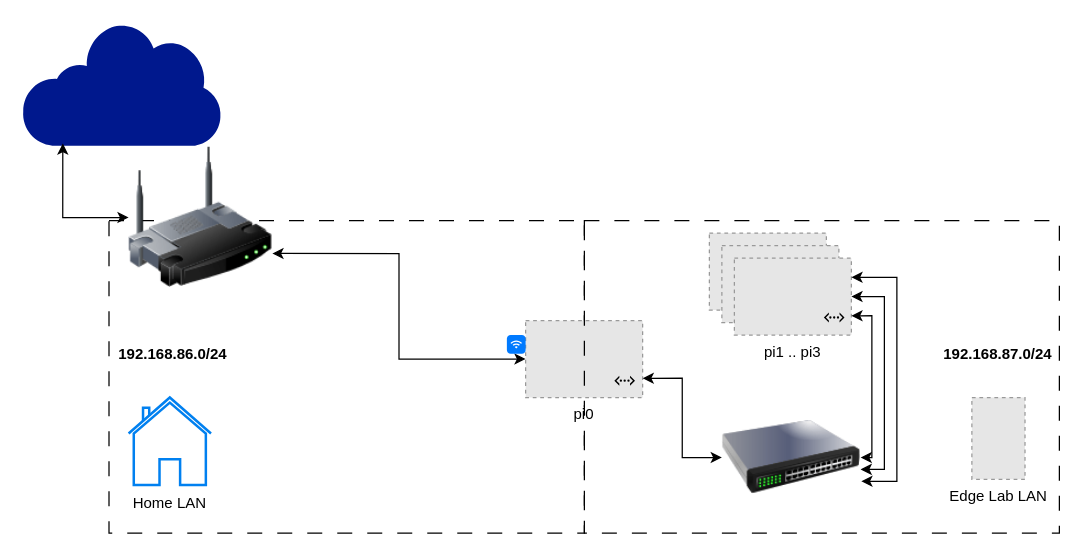
The diagram is 1081 pixels wide and 555 high, and some of its shapes have lost their labels. Grey dashed boxes stand in for pictures. Each missing label, with the box of its shape:
Basic Switch: (721, 420, 860, 494)
Home Modem/Router: (128, 145, 272, 289)
